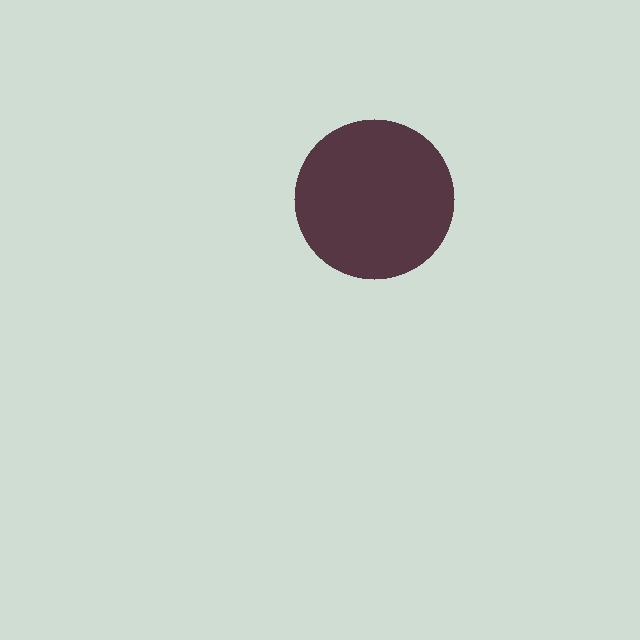circle: (293, 118, 455, 279)
